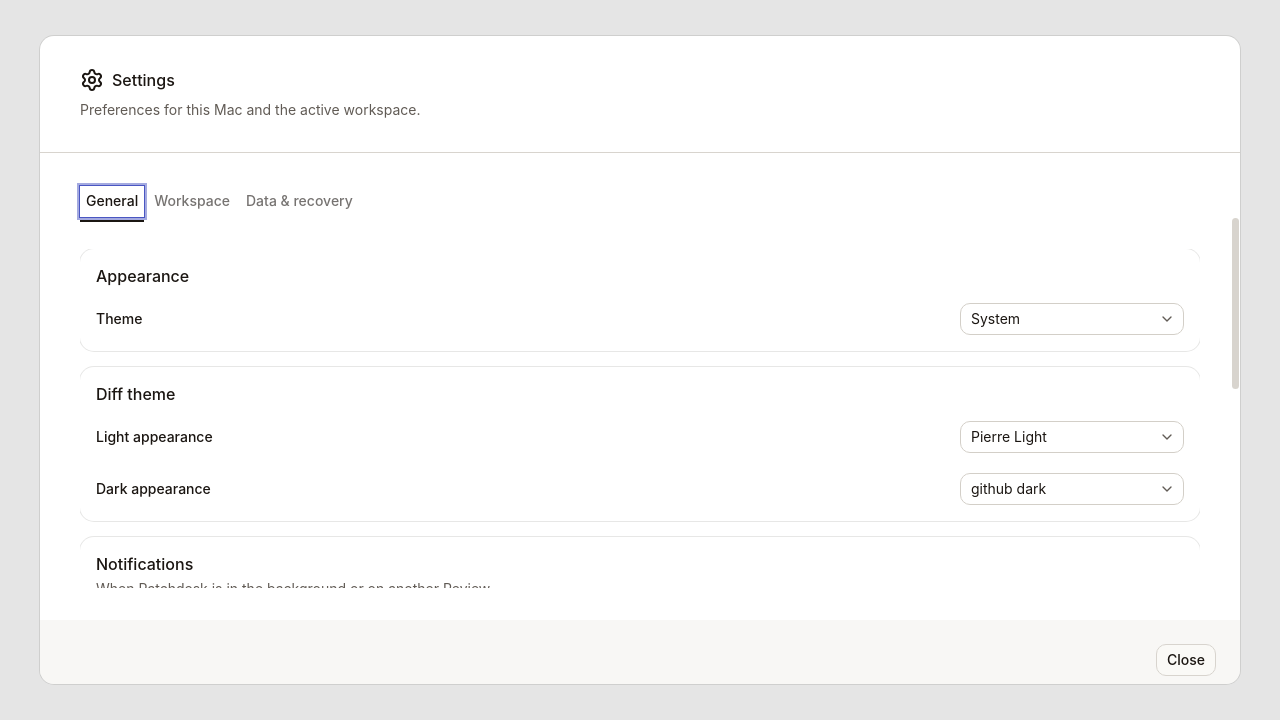
Test: SettingsModal › does not offer cleanup that has no active profile to target
Click the tab "Data & recovery" at (299, 201), box x1=240 y1=186 x2=359 y2=216
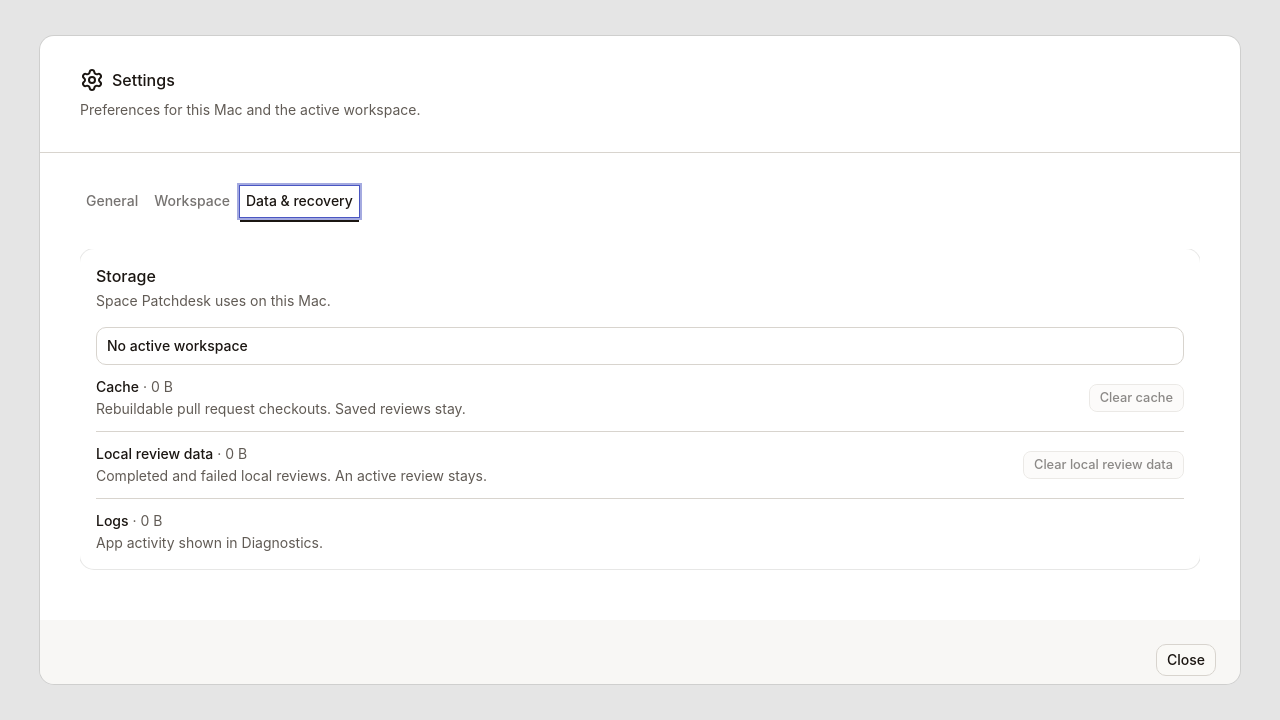
Result: the text "No active workspace" is shown at x1=107 y1=337 x2=248 y2=354
Result: the button "Clear cache" is disabled at x1=1089 y1=384 x2=1184 y2=412
Result: the button "Clear local review data" is disabled at x1=1023 y1=451 x2=1184 y2=479
